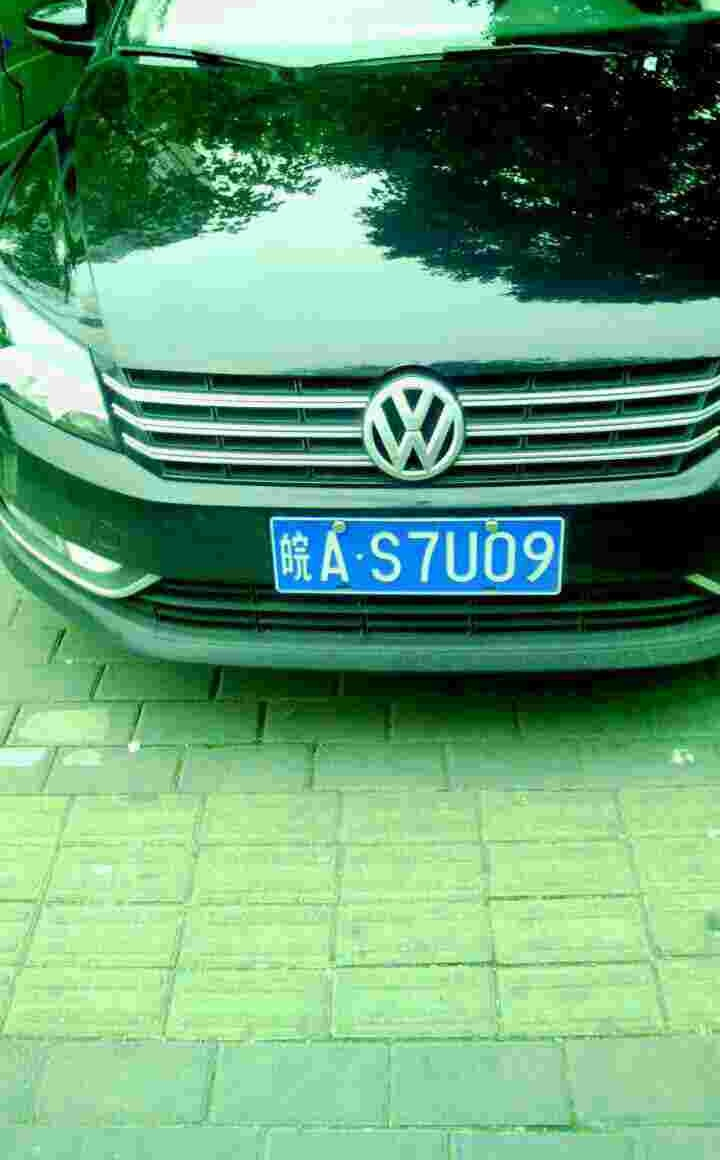license_plate: (280, 516, 577, 598)
